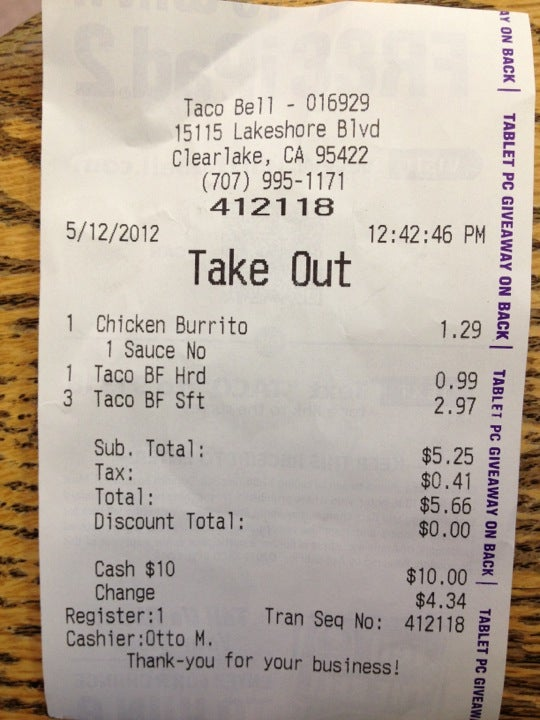Taco Bell: (180, 86, 282, 120)
